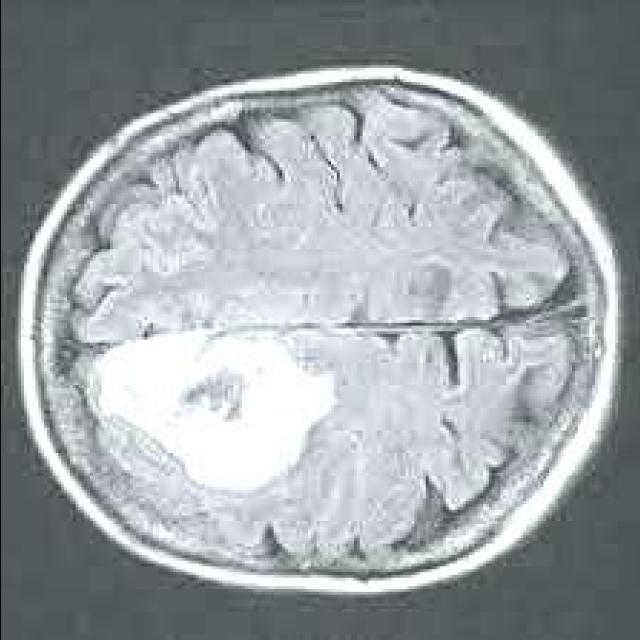tumor: (89, 323, 339, 493)
